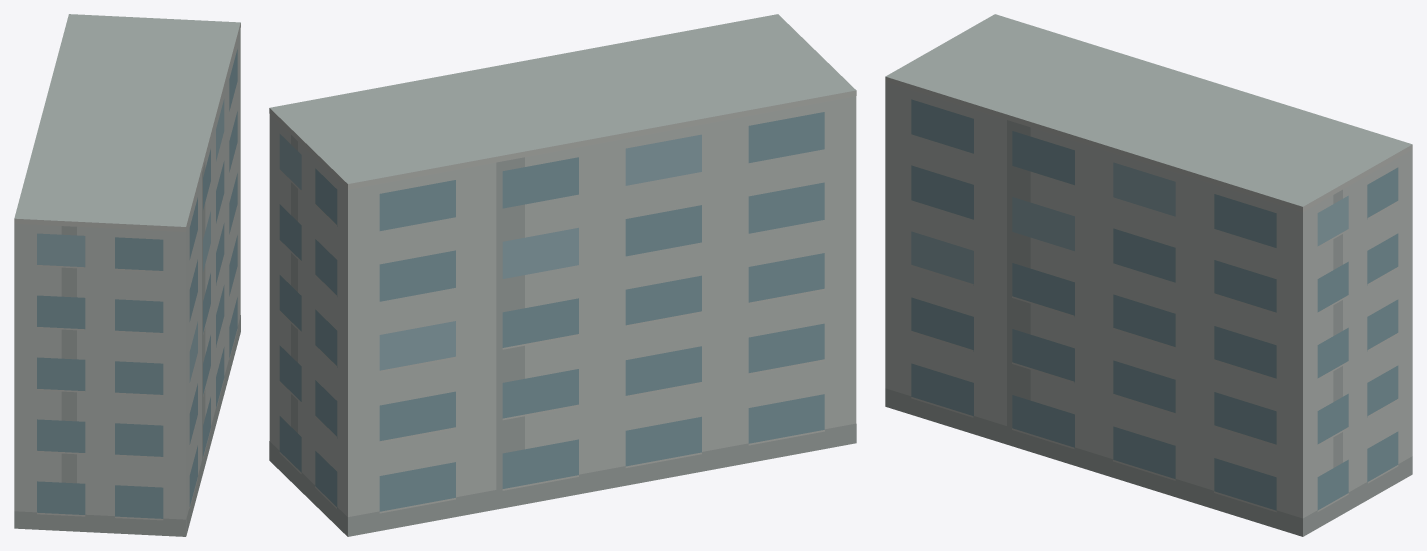
Rendered from survey-upis-32630778.glb.
The picture shows the model from 3 angles, left to right: view 1: azimuth 30°, elevation 25°; view 2: azimuth 150°, elevation 25°; view 3: azimuth 270°, elevation 25°; orthographic projection. The views are drawn at different scales.
Visible parts, largest first — view 1: survey-upis-32630778.tmp; view 2: survey-upis-32630778.tmp; view 3: survey-upis-32630778.tmp.
Boxes of the visible parts, x1,y1,x2,y2 form: survey-upis-32630778.tmp: (14,14,240,536); survey-upis-32630778.tmp: (269,14,856,536); survey-upis-32630778.tmp: (885,14,1412,536).
Bounding box in the file's own units: 18.68 × 14.9 × 21.59.
